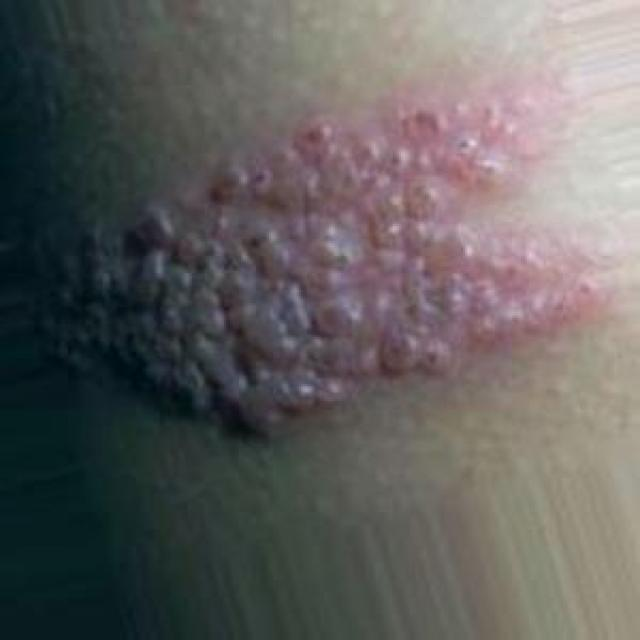Shingles: (74, 102, 605, 444)
